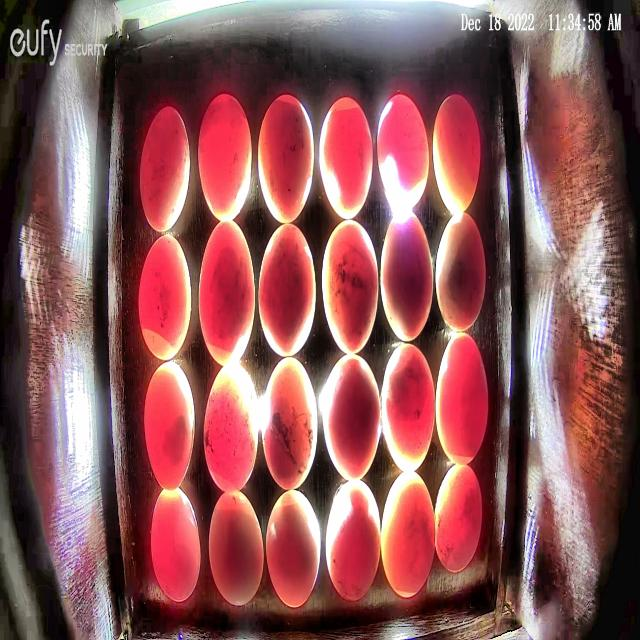FE: (197, 218, 255, 368), (258, 222, 316, 358), (321, 218, 378, 356), (257, 92, 315, 225), (262, 357, 319, 490), (379, 209, 434, 344), (197, 91, 253, 222), (324, 353, 381, 481), (380, 469, 436, 597), (381, 343, 435, 474), (204, 363, 258, 492), (436, 333, 488, 466), (325, 479, 381, 602), (318, 96, 373, 220), (143, 361, 195, 491), (138, 234, 192, 359), (265, 489, 321, 608), (139, 105, 191, 233), (208, 490, 264, 605), (434, 213, 487, 332), (377, 93, 428, 213), (432, 92, 480, 216), (151, 486, 201, 602), (435, 464, 482, 574)
